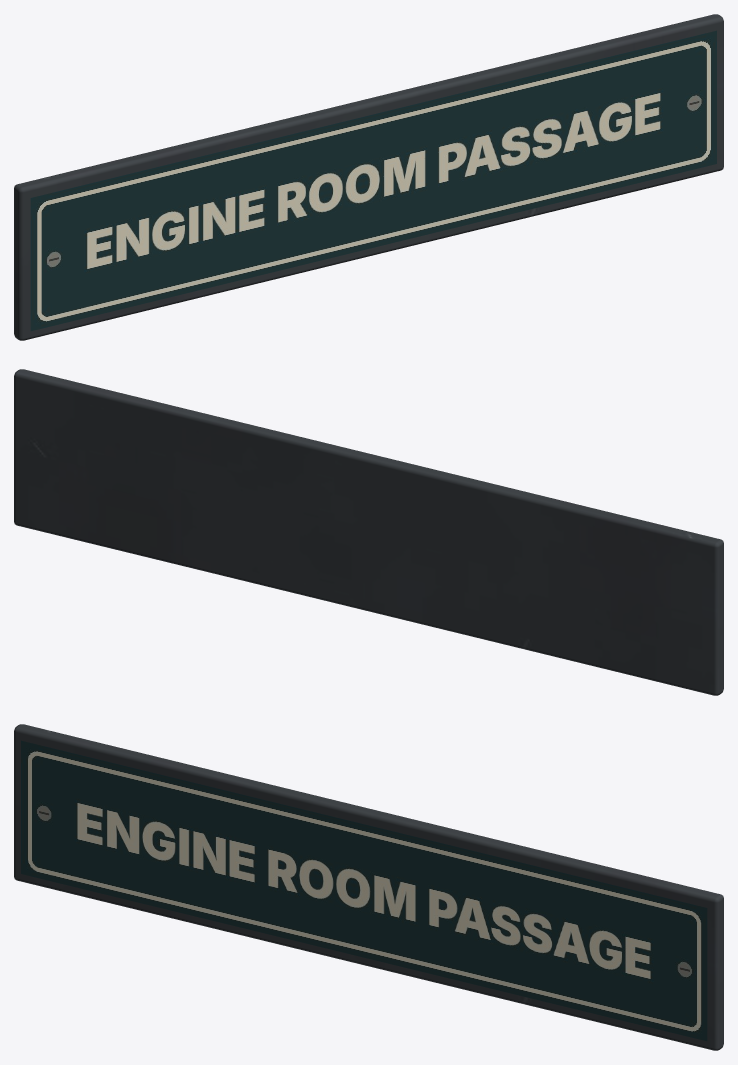
File: RoomSign_Passage.glb
3 views of the same model, one above another, from view 1: azimuth 30°, elevation 25°; view 2: azimuth 150°, elevation 25°; view 3: azimuth 330°, elevation 25° (orthographic).
Visible parts, largest first — view 1: RoomSign_Passage_Body; view 2: RoomSign_Passage_Body; view 3: RoomSign_Passage_Body.
Boxes of the visible parts, bbox=[...] form: RoomSign_Passage_Body: bbox=[14, 14, 723, 340]; RoomSign_Passage_Body: bbox=[14, 369, 723, 695]; RoomSign_Passage_Body: bbox=[14, 724, 723, 1050].
Bounding box in the file's own units: 0.72 × 0.15 × 0.0155.
Materials: 2 (2 with a texture image).
